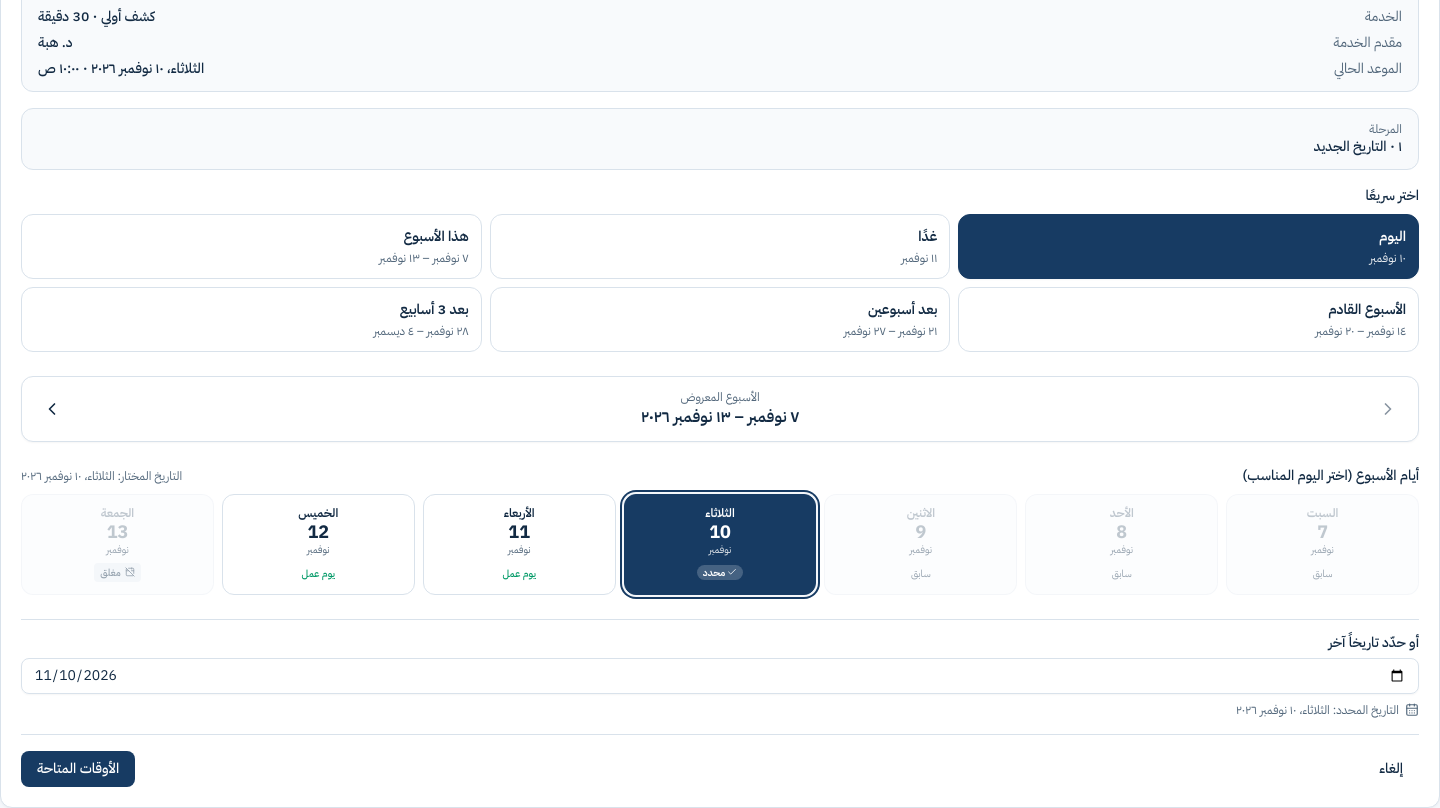
Test case: ReschedulePanel mounted integration tests (ISS-005) › 8. handles conflict failure by displaying error alert and clearing selection
(page scrolled)
Click the button "الأوقات المتاحة" at [78, 769], box [21, 751, 135, 787]
(page scrolled)
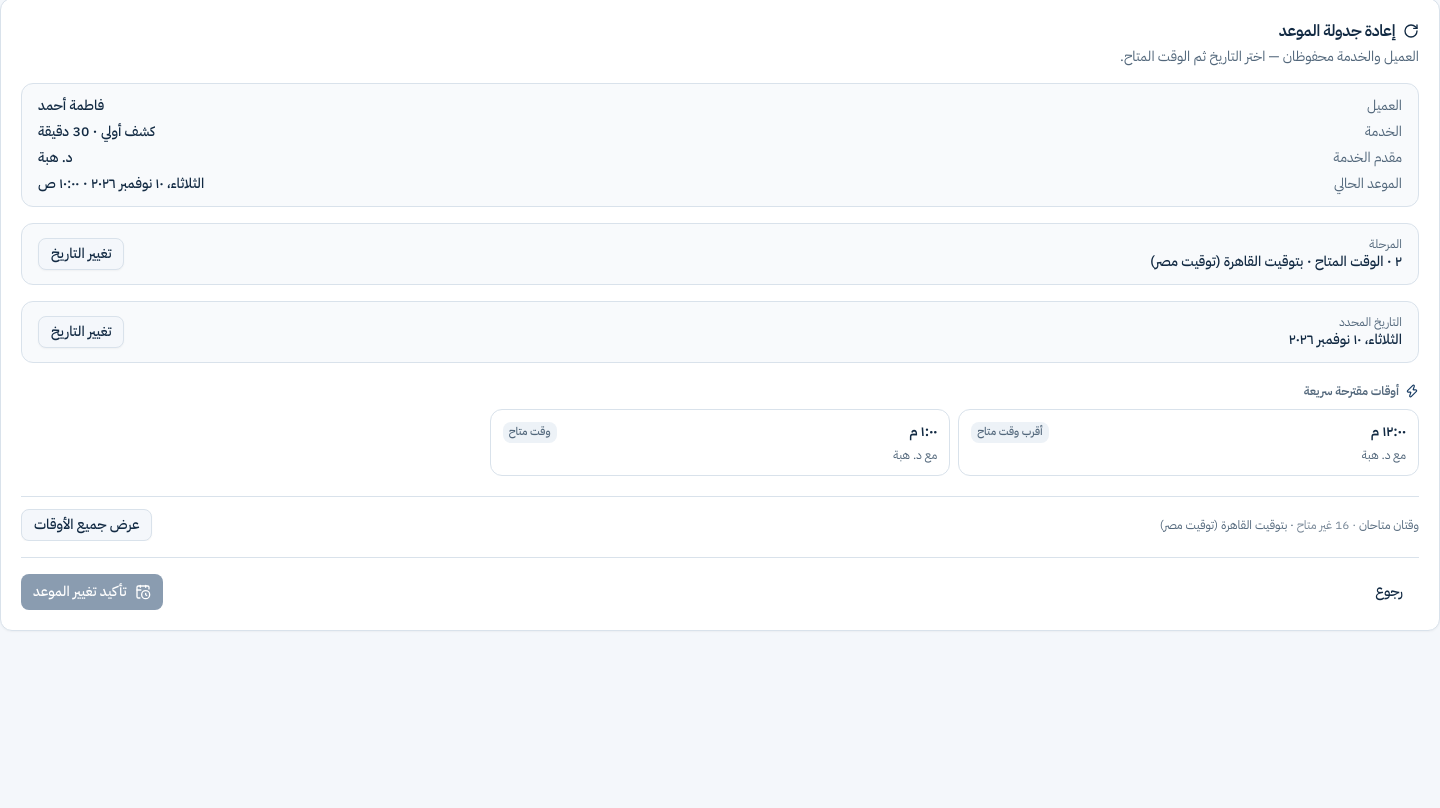
Expected: the button "١٢:٠٠ م أقرب وقت متاح مع د. هبة" is shown
Click the button "١٢:٠٠ م أقرب وقت متاح مع د. هبة" at [1010, 432], box [958, 409, 1419, 476]
(page scrolled)
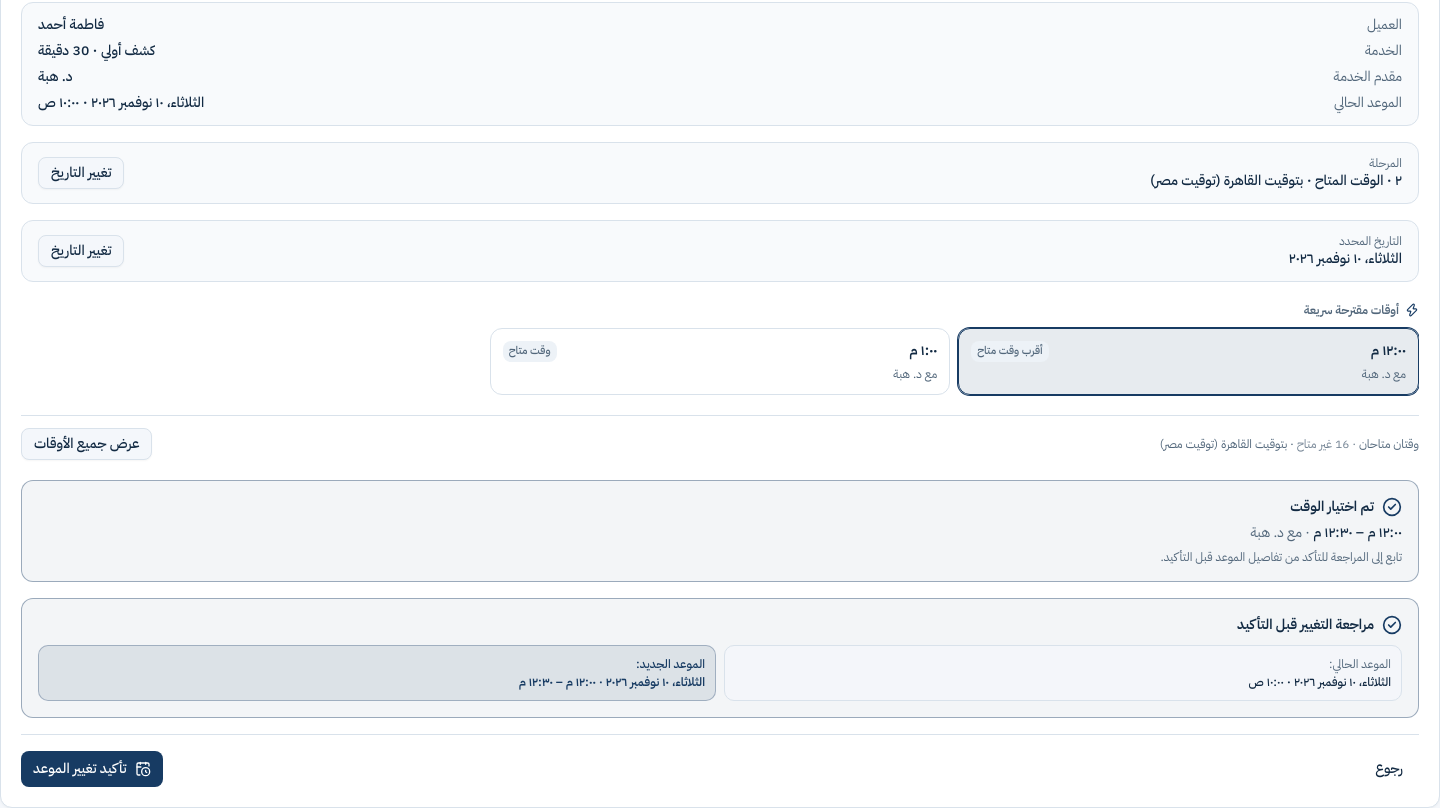
Expected: the button "تأكيد تغيير الموعد" is shown
Click the button "تأكيد تغيير الموعد" at [92, 768], box [21, 750, 163, 786]
(page scrolled)
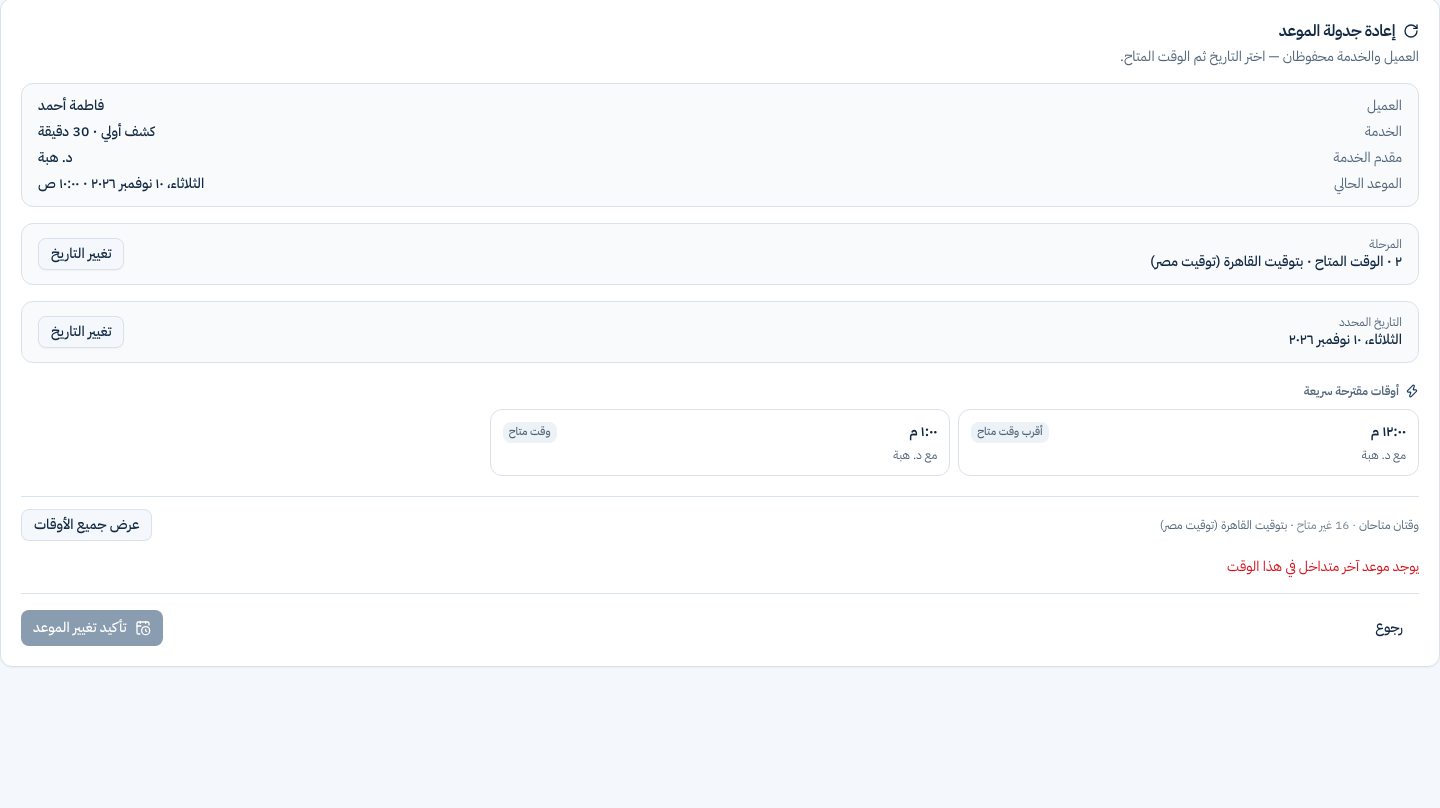
Expected: the text "يوجد موعد آخر متداخل في هذا الوقت" is shown, [1227, 556, 1419, 576]
Expected: the text "مراجعة التغيير قبل التأكيد" is gone
